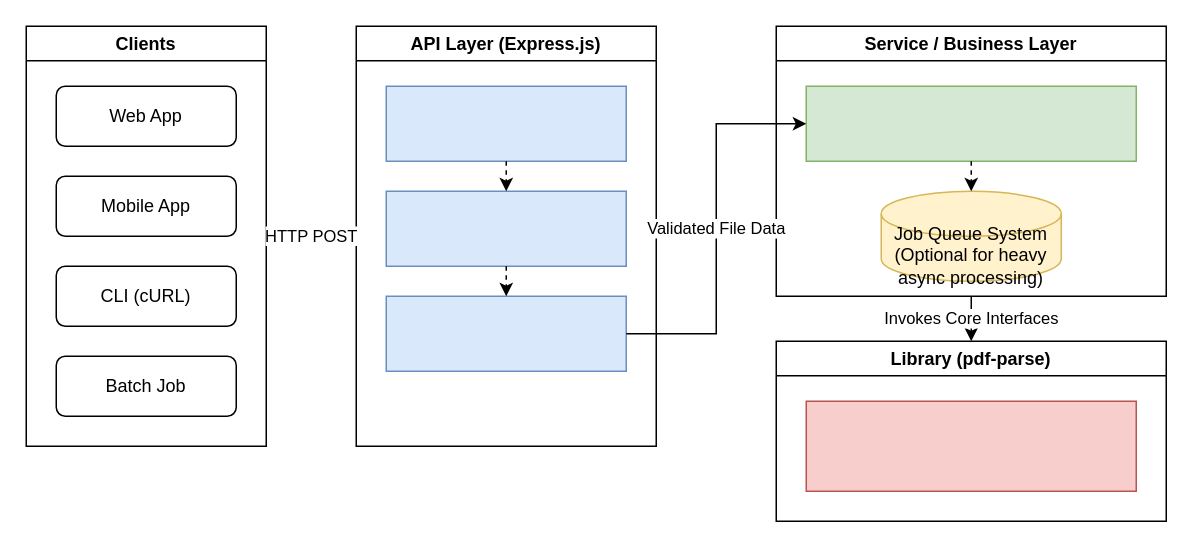
This 1193x548 diagram has some shape labels left out. The centre of each missing label's shape, as x and y in pixels:
"File Upload Handler (Buffer / URL Auth)" belongs at point (505, 333).
"HTTP Routes / Controllers" belongs at point (505, 123).
"IPDFSession & IExtractor Plugins (Our Redesigned Architecture)" belongs at point (970, 445).
"PDF Parsing Service (Business logic & orchestration)" belongs at point (970, 123).
"Request Validation & Rate Limiting" belongs at point (505, 228).
